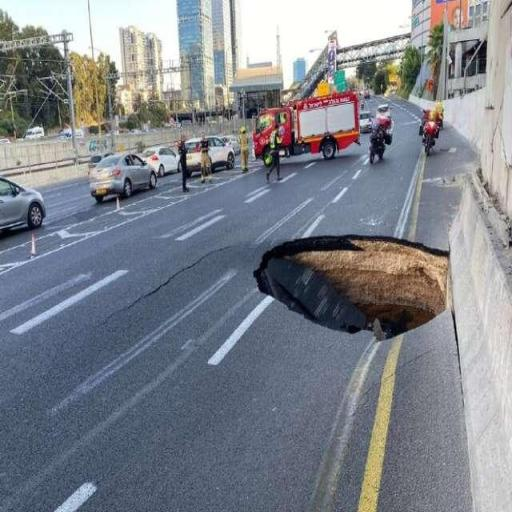Concentric_Crack: (254, 236, 448, 339)
